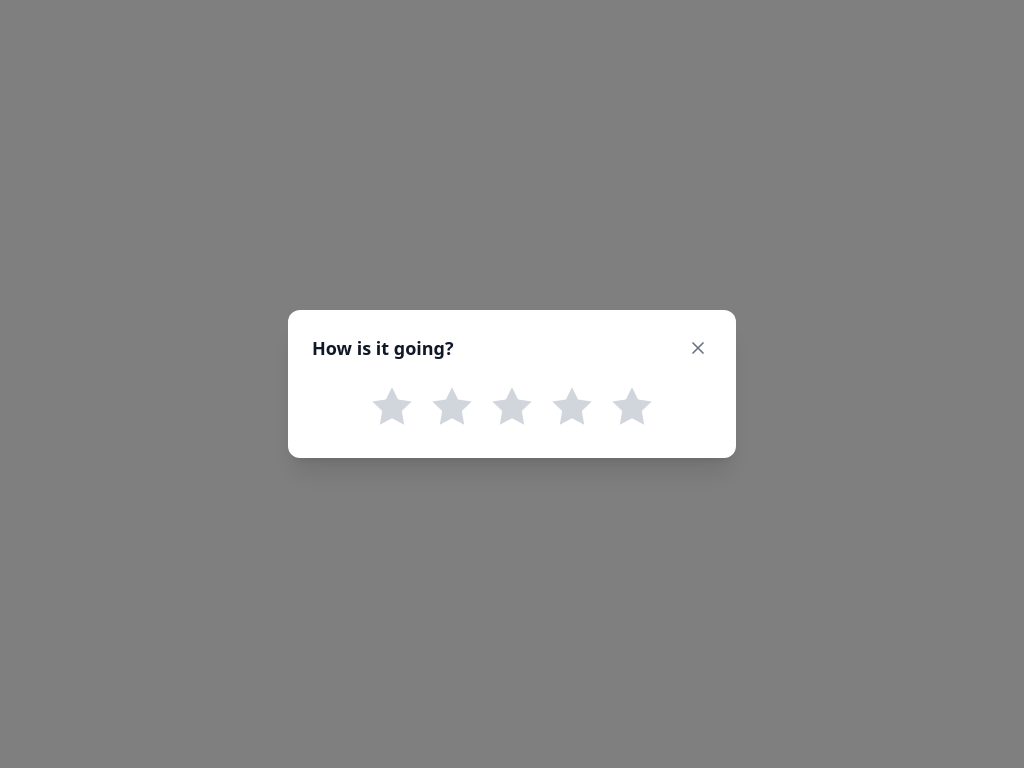
what it says it sends › names the number when there is one
Step 1. Click the button named "star" → (632, 406), box [604,378,660,434]
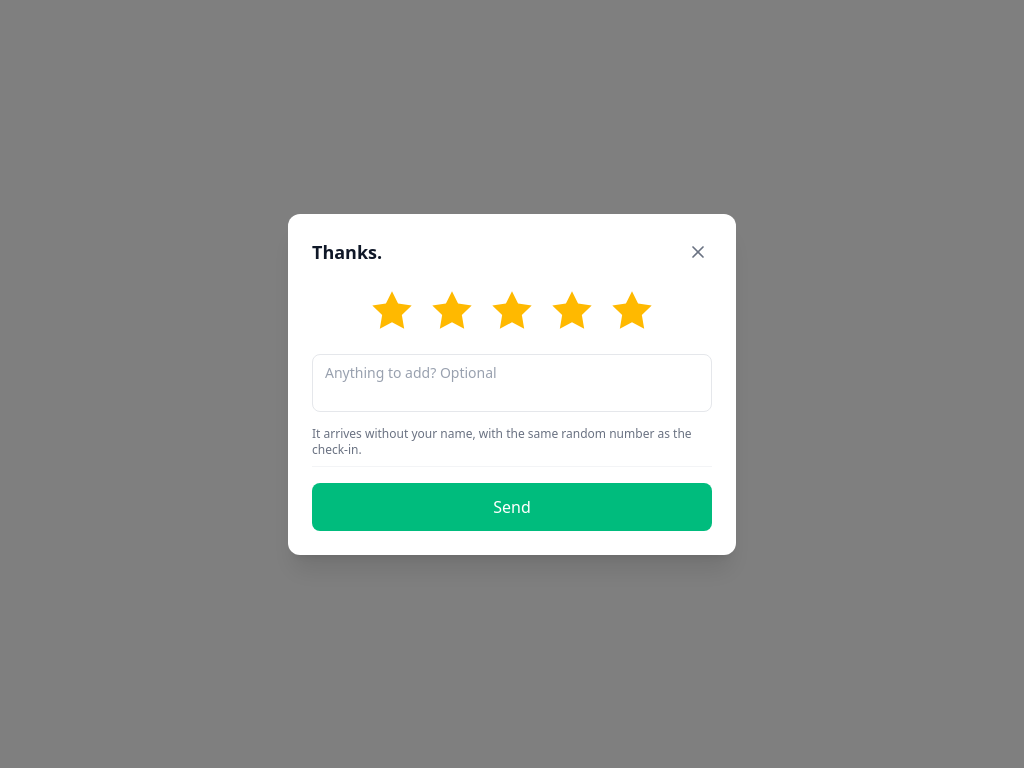
Check: the text with test id "feedback-rating-note" reads "It arrives without your name, with the same random number as the check-in.", box [312,424,692,458]
